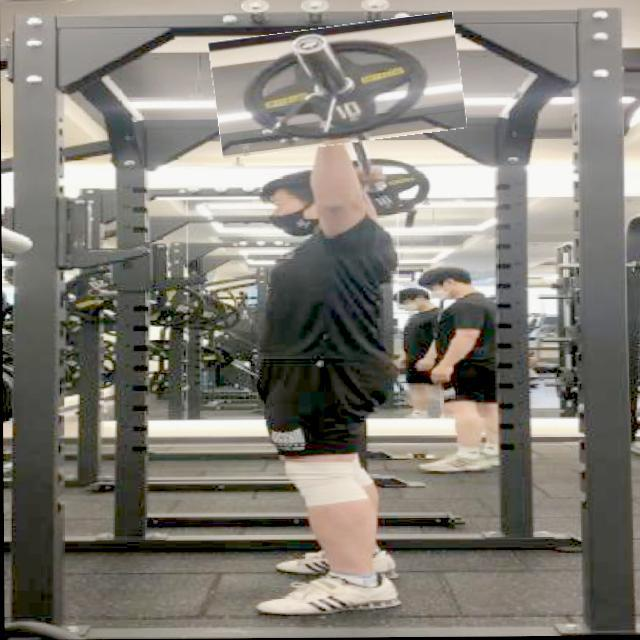barbell: (213, 20, 465, 153)
